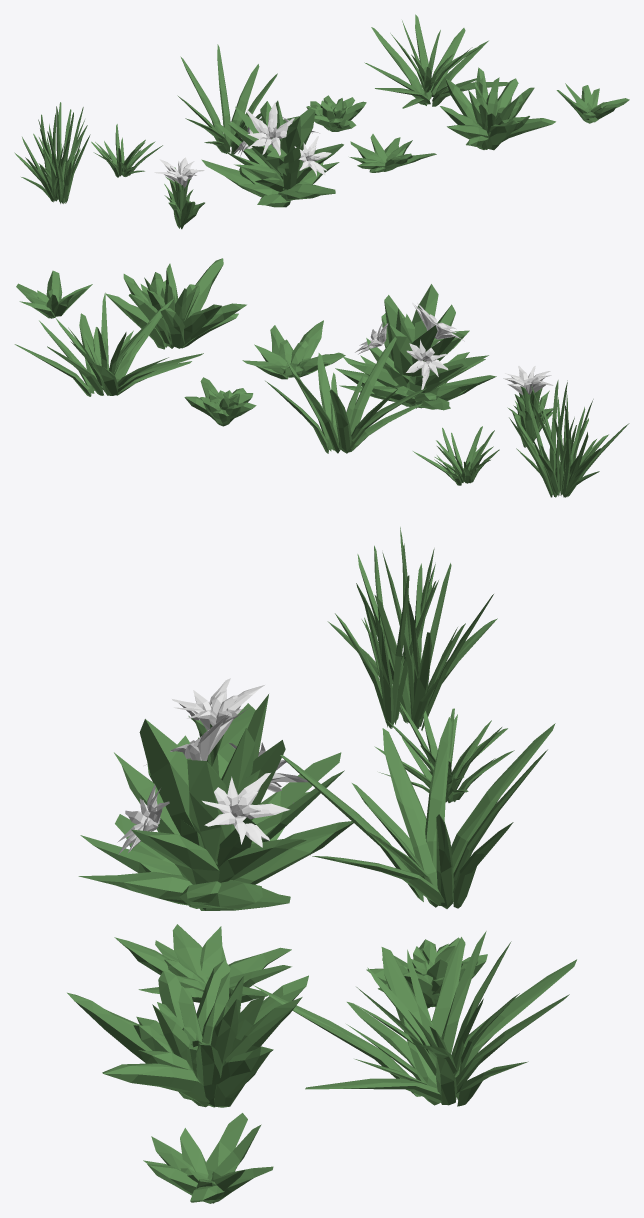
File: Plants 1.fbx
3 renders of one model, top to bottom at view 1: azimuth 30°, elevation 25°; view 2: azimuth 150°, elevation 25°; view 3: azimuth 270°, elevation 25°, orthographic. The views are drawn at different scales.
Visible parts, largest first — view 1: Flower Plant 1, Plant 3, Plant 5, Plant 8, Plant 6, Flower Plant 2, Plant 2, Plant 1, Plant 4, Plant 7; view 2: Flower Plant 1, Plant 3, Plant 5, Plant 6, Plant 8, Plant 2, Flower Plant 2, Plant 1, Plant 7, Plant 4; view 3: Flower Plant 1, Plant 5, Plant 3, Plant 6, Plant 8, Plant 2, Plant 4, Plant 7, Plant 1, Flower Plant 2.
Part boxes in pixels (left/top/right/bottom): Flower Plant 1: left=201, top=100, right=343, bottom=207; Plant 3: left=440, top=67, right=555, bottom=150; Plant 5: left=364, top=14, right=508, bottom=108; Plant 8: left=14, top=102, right=90, bottom=203; Plant 6: left=177, top=44, right=298, bottom=154; Flower Plant 2: left=154, top=157, right=204, bottom=229; Plant 2: left=349, top=134, right=436, bottom=172; Plant 1: left=306, top=95, right=366, bottom=131; Plant 4: left=556, top=83, right=629, bottom=123; Plant 7: left=91, top=124, right=162, bottom=177; Flower Plant 1: left=335, top=284, right=496, bottom=410; Plant 3: left=105, top=258, right=246, bottom=349; Plant 5: left=14, top=292, right=203, bottom=396; Plant 6: left=265, top=332, right=426, bottom=453; Plant 8: left=509, top=380, right=629, bottom=497; Plant 2: left=242, top=320, right=345, bottom=379; Flower Plant 2: left=503, top=366, right=553, bottom=447; Plant 1: left=184, top=377, right=256, bottom=426; Plant 7: left=413, top=426, right=499, bottom=485; Plant 4: left=16, top=270, right=92, bottom=318; Flower Plant 1: left=78, top=694, right=353, bottom=910; Plant 5: left=253, top=931, right=576, bottom=1106; Plant 3: left=67, top=960, right=308, bottom=1107; Plant 6: left=280, top=717, right=555, bottom=908; Plant 8: left=327, top=527, right=497, bottom=730; Plant 2: left=114, top=924, right=291, bottom=1002; Plant 4: left=143, top=1113, right=273, bottom=1203; Plant 7: left=374, top=702, right=514, bottom=802; Plant 1: left=366, top=937, right=487, bottom=1008; Flower Plant 2: left=172, top=678, right=264, bottom=766.
Bounding box in the file's own units: 561 × 105 × 221.
